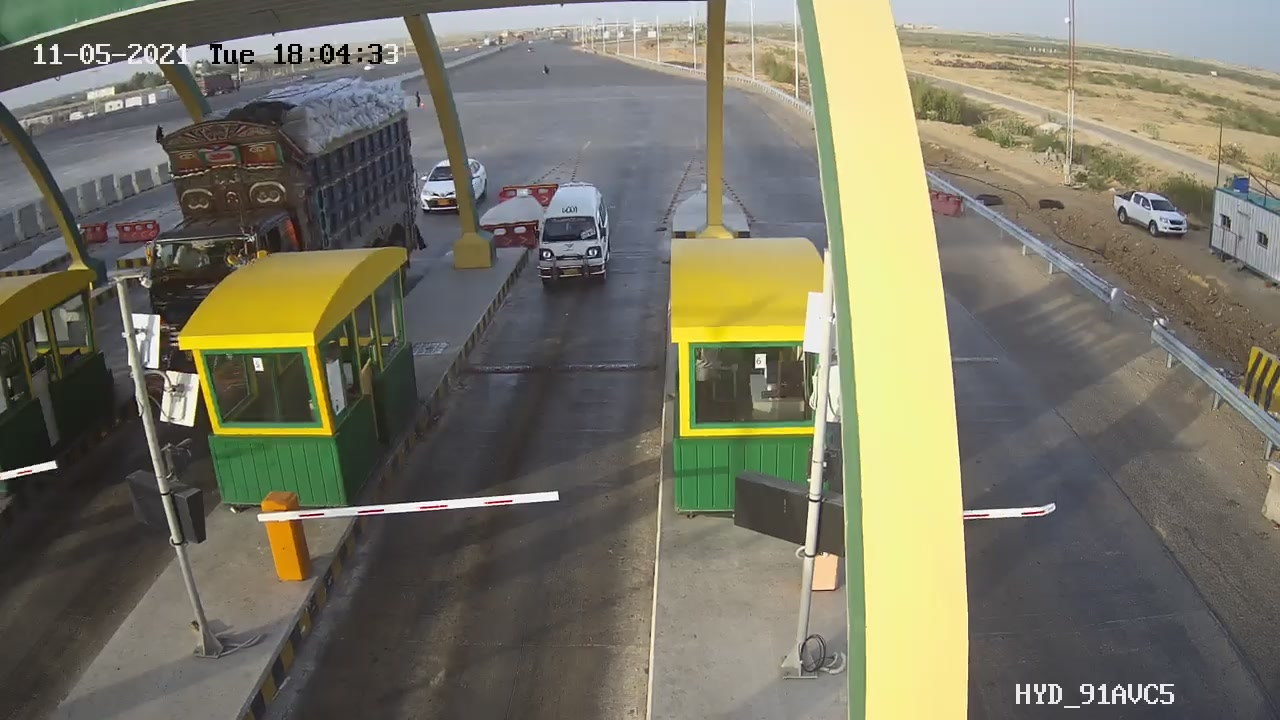F1: (519, 164, 632, 302)
